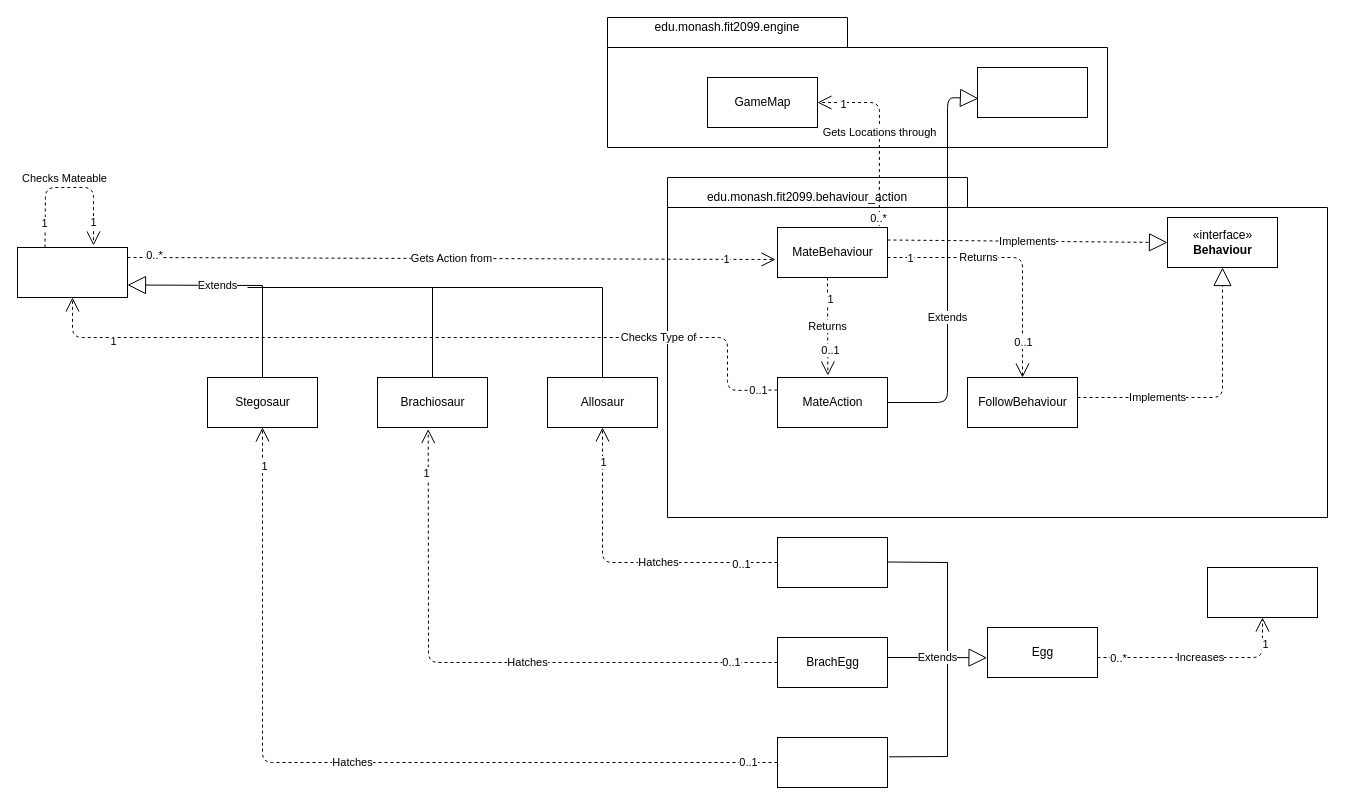
Image size: 1345x805. Some labels were removed from this diagram. The box of each missing label's shape, as (x1, y1, x2, y2) in pixels:
Action: (976, 66, 1088, 118)
AlloEgg: (776, 536, 888, 588)
EcoPoints: (1206, 566, 1318, 618)
StegEgg: (776, 736, 888, 788)
«interface» Dinosaur: (16, 246, 128, 298)
